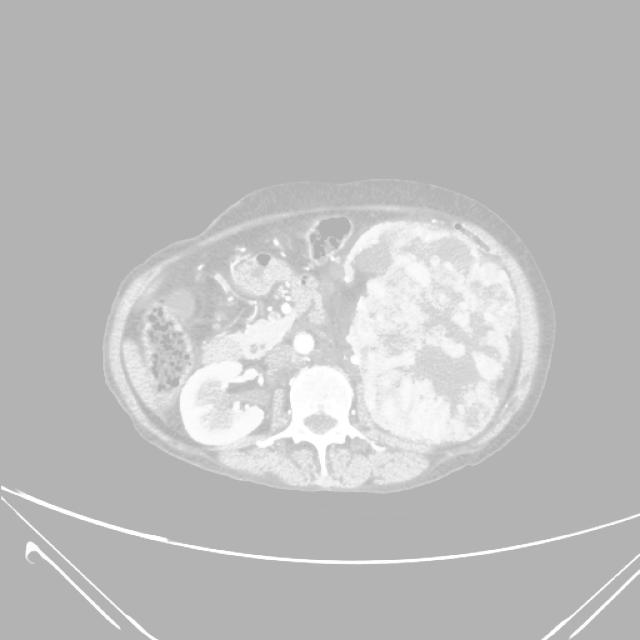TUMOR: (91, 236, 333, 438)
